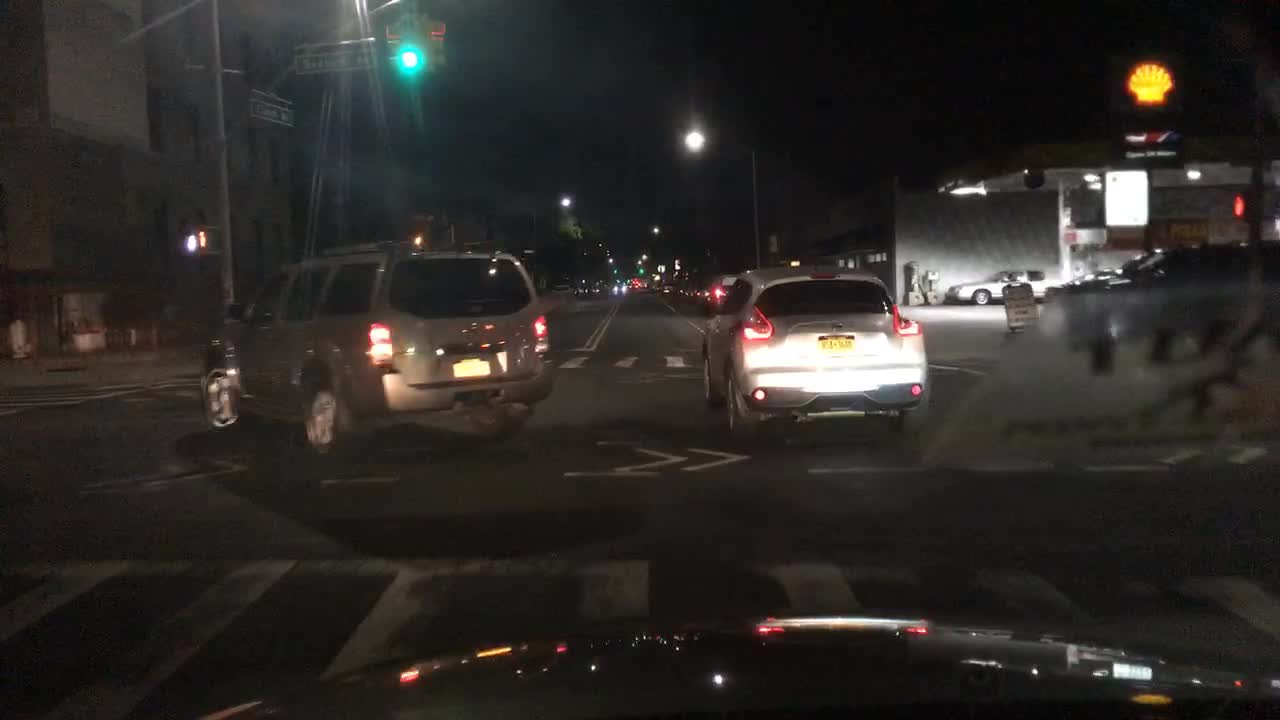car: (199, 237, 561, 461), (696, 262, 925, 441), (1040, 240, 1279, 346), (940, 267, 1056, 308), (700, 269, 739, 311), (685, 280, 707, 308), (575, 281, 602, 301), (609, 281, 631, 295), (658, 281, 677, 296)
traffic light: (401, 18, 424, 80), (427, 21, 447, 81), (386, 18, 403, 77), (1230, 188, 1257, 223), (195, 230, 212, 253), (183, 232, 197, 252), (640, 264, 646, 274), (617, 263, 620, 273)
traffic sign: (291, 48, 375, 72), (243, 94, 294, 127)
